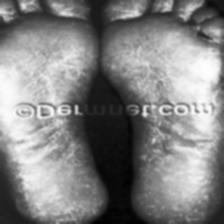Toxin: (101, 0, 189, 22), (16, 50, 54, 74)
